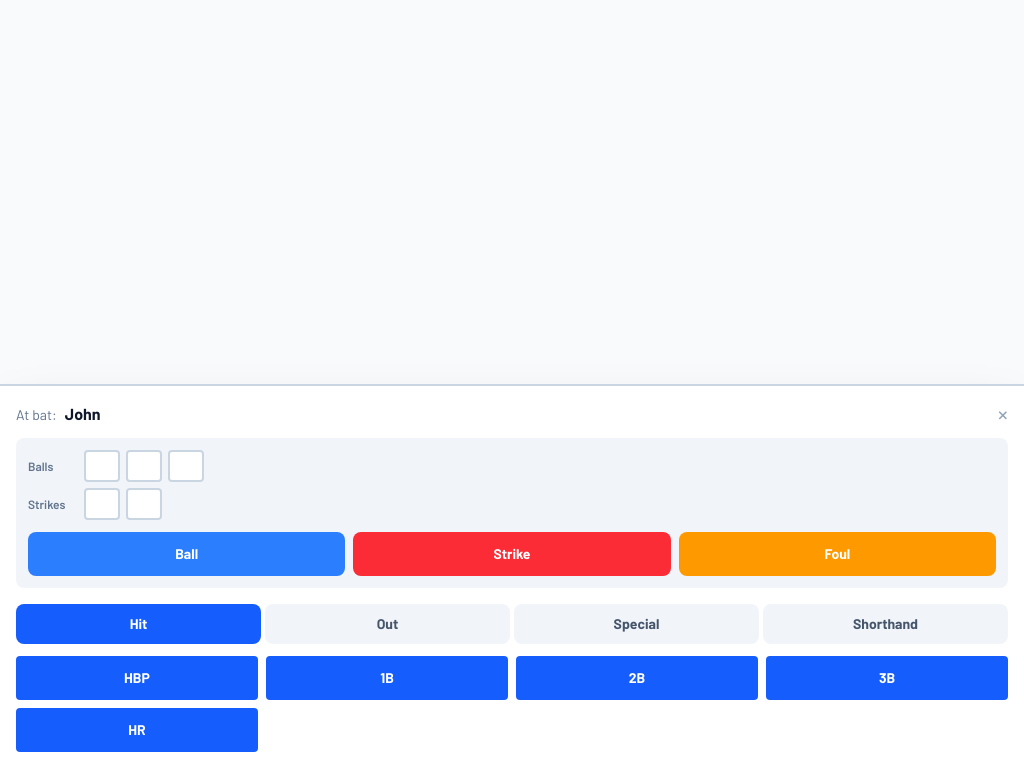
Test: PlayEntryPanel › disables FC, SAC, DP, SB, WP, PB, BK when bases empty
What coordinates should you click on to do the following:
click the button "Special"
I would click on:
 (636, 624)
Its box is [514,604,759,644].
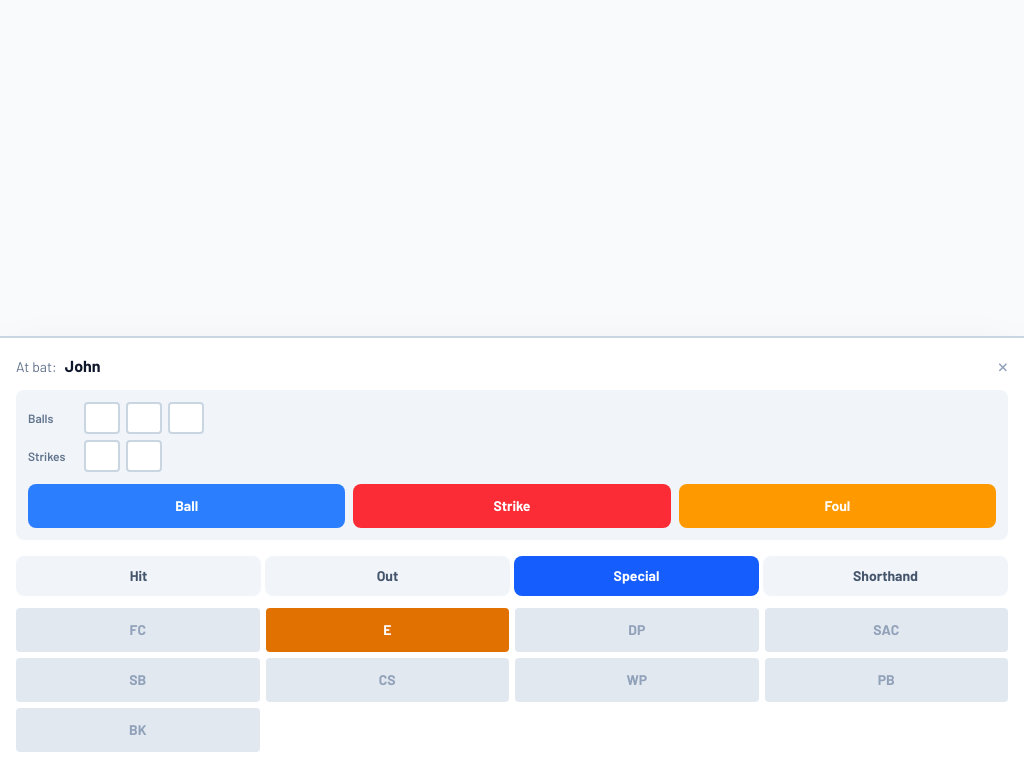
Now the button "FC" is disabled, box [16,608,260,652]
Now the button "DP" is disabled, box [515,608,758,652]
Now the button "SAC" is disabled, box [764,608,1008,652]
